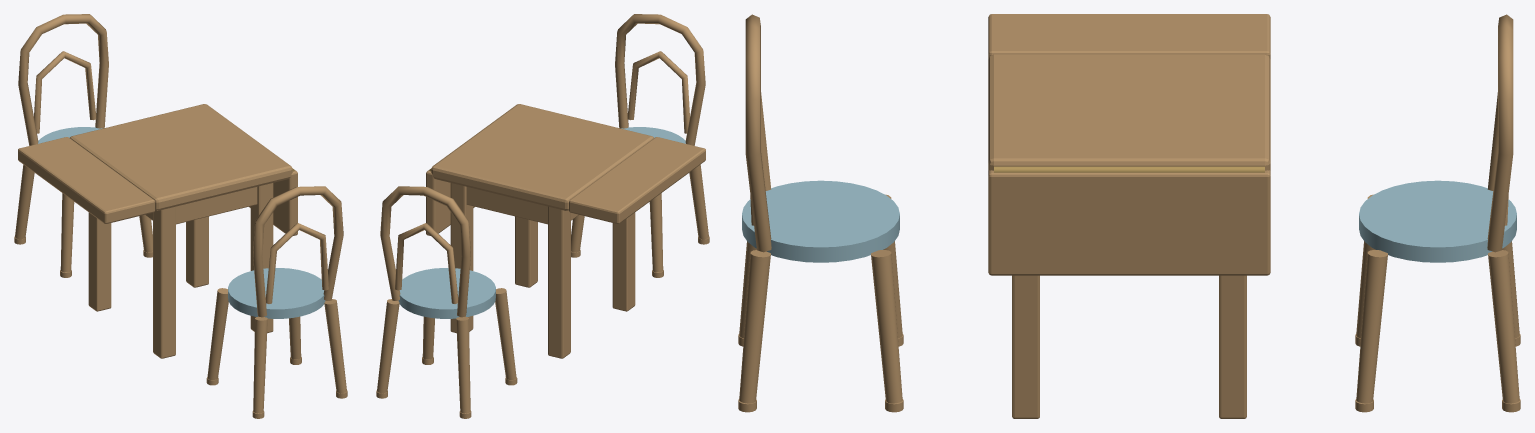
Rendered from kitchen_set_drop_leaf.glb.
3 renders of one model, left to right at view 1: azimuth 30°, elevation 25°; view 2: azimuth 150°, elevation 25°; view 3: azimuth 270°, elevation 25°, orthographic. The views are drawn at different scales.
Visible parts, largest first — view 1: Compact drop-leaf table tabletop, Raised left drop leaf, Bentwood breakfast chair 1 round seat, Compact drop-leaf table leg, Bentwood breakfast chair 2 bentwood hoop back, Bentwood breakfast chair 1 bentwood hoop back, Compact drop-leaf table leg.001, Compact drop-leaf table leg.003, Compact drop-leaf table long apron, Compact drop-leaf table leg.002, Bentwood breakfast chair 1 inner curved back support, Bentwood breakfast chair 1 leg.003 (+9 smaller); view 2: Compact drop-leaf table tabletop, Raised left drop leaf, Bentwood breakfast chair 2 round seat, Compact drop-leaf table leg.001, Bentwood breakfast chair 1 bentwood hoop back, Bentwood breakfast chair 2 bentwood hoop back, Compact drop-leaf table leg, Compact drop-leaf table leg.002, Compact drop-leaf table long apron.001, Compact drop-leaf table leg.003, Bentwood breakfast chair 2 inner curved back support, Bentwood breakfast chair 2 leg.001 (+9 smaller); view 3: Compact drop-leaf table tabletop, Lowered right drop leaf, Raised left drop leaf, Bentwood breakfast chair 1 round seat, Bentwood breakfast chair 2 round seat, Bentwood breakfast chair 1 bentwood hoop back, Bentwood breakfast chair 2 bentwood hoop back, Compact drop-leaf table leg.002, Compact drop-leaf table leg.003, Bentwood breakfast chair 1 leg, Bentwood breakfast chair 2 leg.002, Bentwood breakfast chair 1 leg.001 (+2 smaller).
Boxes of the visible parts, x1,y1,x2,y2 form: Compact drop-leaf table tabletop: (70,104,292,210); Raised left drop leaf: (18,137,154,223); Bentwood breakfast chair 1 round seat: (228,268,325,318); Compact drop-leaf table leg: (153,206,175,358); Bentwood breakfast chair 2 bentwood hoop back: (18,14,108,145); Bentwood breakfast chair 1 bentwood hoop back: (253,186,343,317); Compact drop-leaf table leg.001: (88,212,111,311); Compact drop-leaf table leg.003: (186,216,208,287); Compact drop-leaf table long apron: (176,187,257,224); Compact drop-leaf table leg.002: (250,183,273,332); Bentwood breakfast chair 1 inner curved back support: (265,223,328,303); Bentwood breakfast chair 1 leg.003: (253,316,267,413); Compact drop-leaf table tabletop: (431,104,653,210); Raised left drop leaf: (569,137,705,223); Bentwood breakfast chair 2 round seat: (398,268,495,318); Compact drop-leaf table leg.001: (548,206,570,358); Bentwood breakfast chair 1 bentwood hoop back: (615,14,705,145); Bentwood breakfast chair 2 bentwood hoop back: (380,186,470,317); Compact drop-leaf table leg: (612,212,635,311); Compact drop-leaf table leg.002: (515,216,537,287); Compact drop-leaf table long apron.001: (466,187,547,224); Compact drop-leaf table leg.003: (450,183,473,332); Bentwood breakfast chair 2 inner curved back support: (395,223,458,303); Bentwood breakfast chair 2 leg.001: (456,316,470,413); Compact drop-leaf table tabletop: (988,54,1270,170); Lowered right drop leaf: (988,170,1270,275); Raised left drop leaf: (988,14,1270,59); Bentwood breakfast chair 1 round seat: (742,180,899,262); Bentwood breakfast chair 2 round seat: (1359,180,1516,262); Bentwood breakfast chair 1 bentwood hoop back: (745,14,771,252); Bentwood breakfast chair 2 bentwood hoop back: (1487,14,1513,252); Compact drop-leaf table leg.002: (1012,275,1039,418); Compact drop-leaf table leg.003: (1219,275,1246,418); Bentwood breakfast chair 1 leg: (871,250,902,403); Bentwood breakfast chair 2 leg.002: (1356,250,1387,403); Bentwood breakfast chair 1 leg.001: (739,250,770,403).
Size of the model in its own units: 0.9525 by 1.03 by 2.08.
